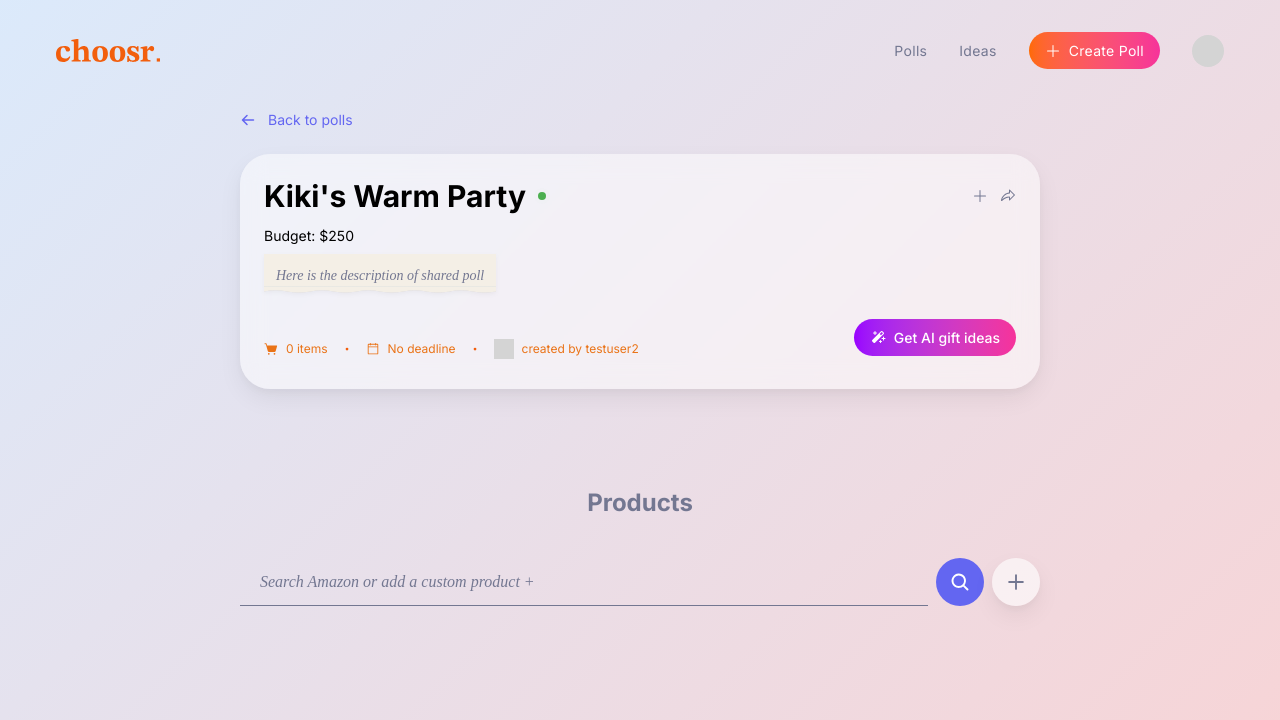
Test: Add Shared Poll › adds shared poll successfully
The image size is (1280, 720).
Click the icon with test id "add-poll-icon" at (980, 196), box [972, 188, 988, 204]
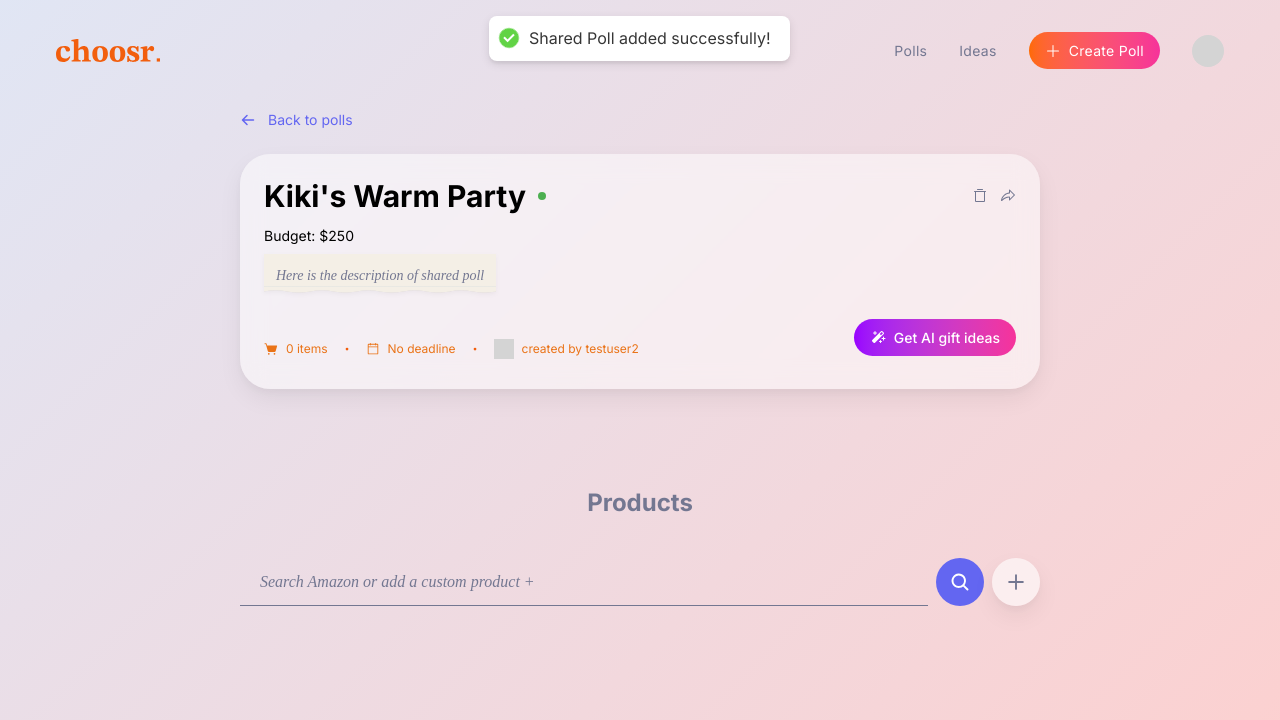
Expected: the text "Shared Poll added successfully!" is shown, [529, 28, 771, 49]
Open "/my-polls"
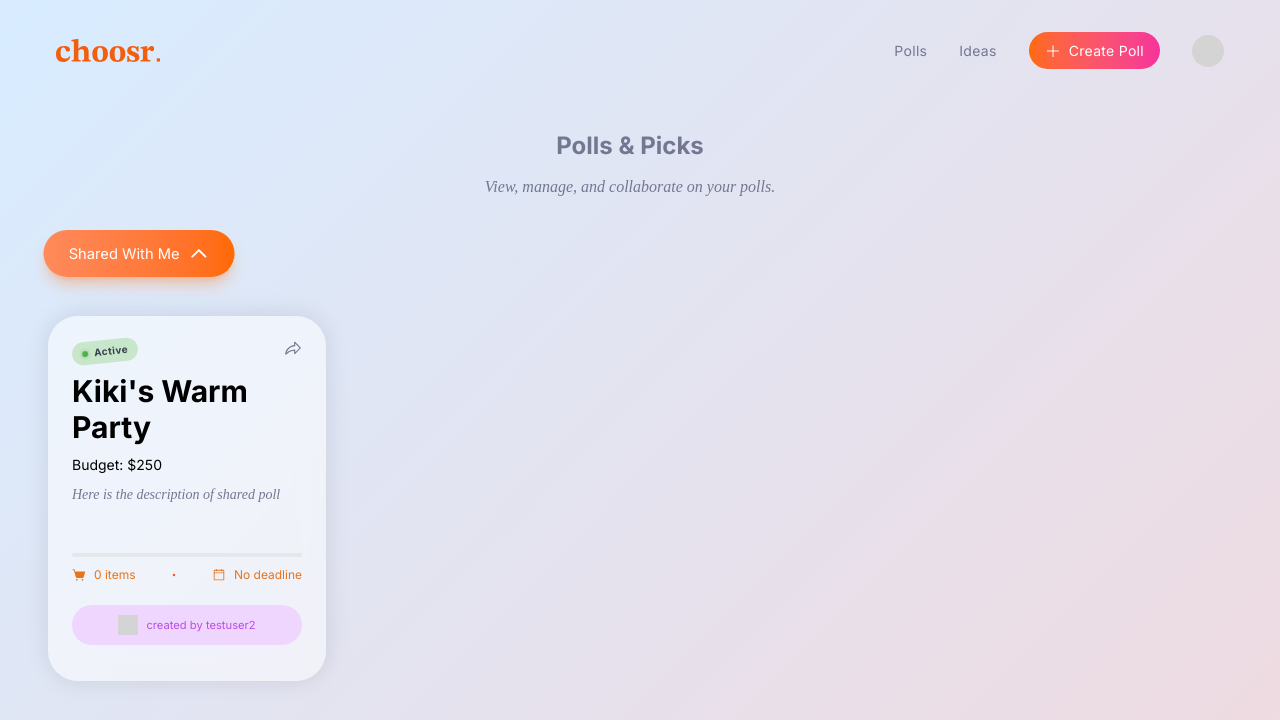
Expected: the text "Shared With Me" is shown, [44, 230, 234, 278]
